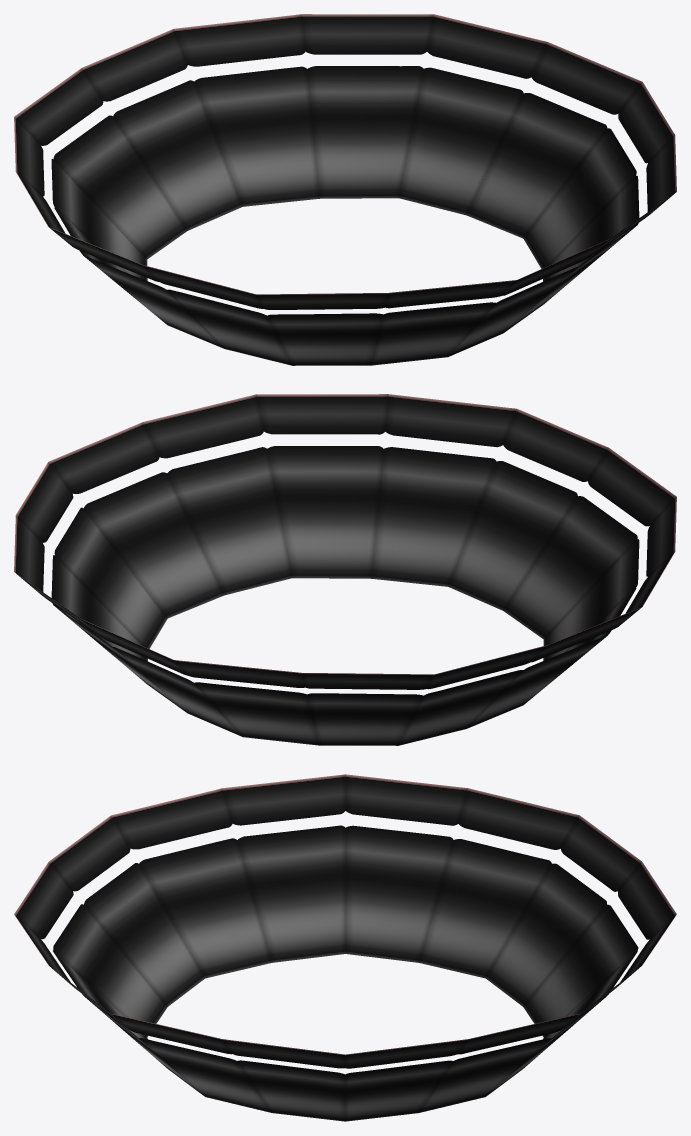
3 renders of one model, top to bottom at view 1: azimuth 30°, elevation 25°; view 2: azimuth 150°, elevation 25°; view 3: azimuth 270°, elevation 25°, orthographic. The views are drawn at different scales.
Parts seen in each view (by area): view 1: T1L4M001_30; view 2: T1L4M001_30; view 3: T1L4M001_30.
Part boxes in pixels (x1,y1,x2,y2): T1L4M001_30: (14, 14, 676, 365); T1L4M001_30: (14, 394, 676, 745); T1L4M001_30: (14, 774, 676, 1121).
Size of the model in its own units: 2.87 by 0.5947 by 2.87.
